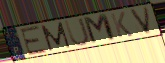E: (19, 24, 49, 57)
K: (109, 10, 134, 39)
M: (81, 12, 119, 46), (40, 21, 72, 52)
U: (63, 17, 91, 48)
V: (128, 5, 153, 36)
